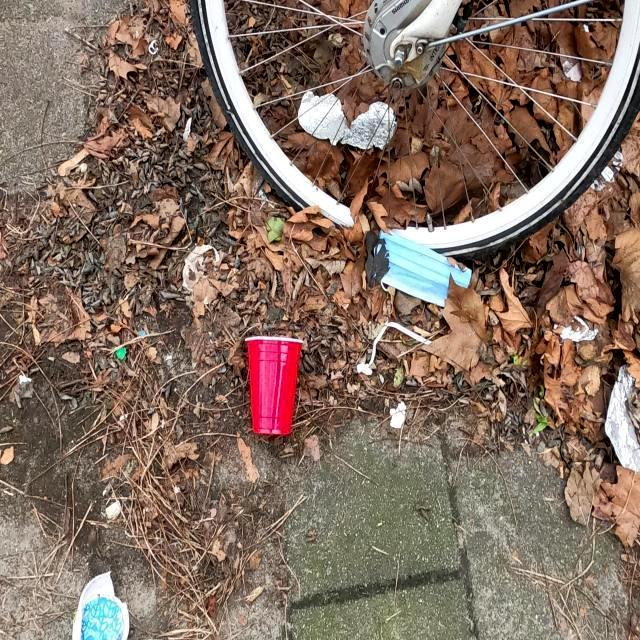Coffee Cup: (243, 334, 305, 436)
Mask: (372, 226, 472, 308), (72, 566, 130, 640)
